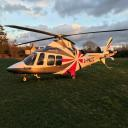helicopter: (5, 22, 128, 83)
